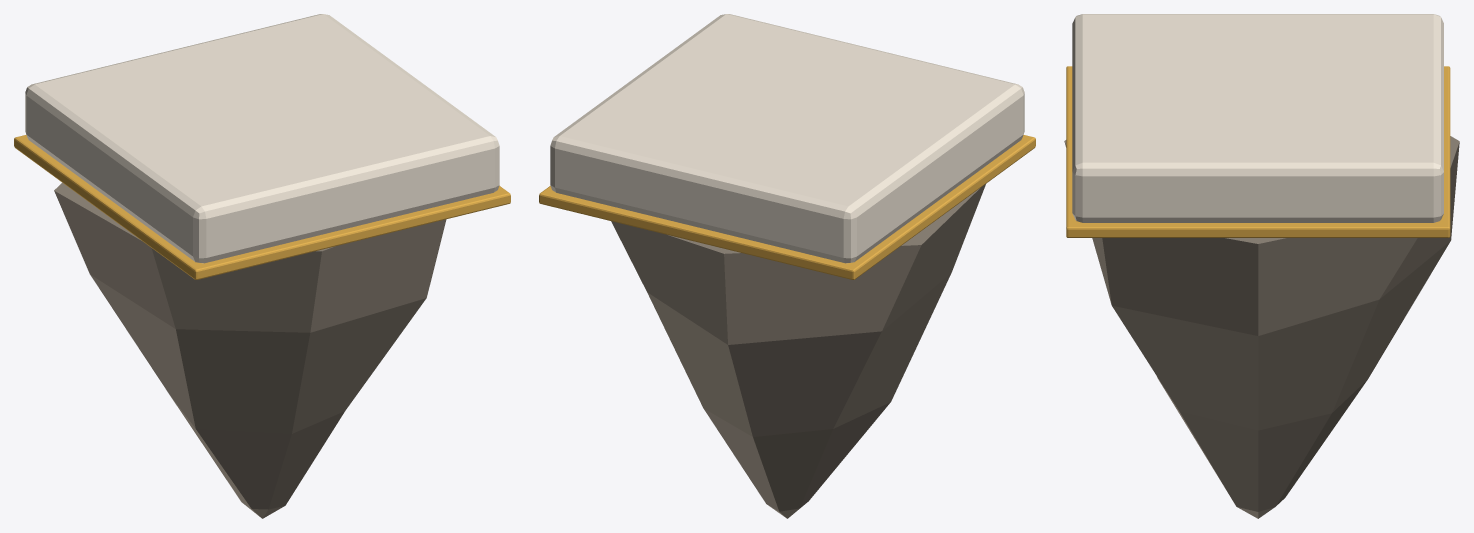
The model's file is plinth.glb.
3 views of the same model, side by side, from view 1: azimuth 30°, elevation 25°; view 2: azimuth 150°, elevation 25°; view 3: azimuth 270°, elevation 25° (orthographic). The views are drawn at different scales.
Visible parts, largest first — view 1: slab, rock, lip; view 2: slab, rock, lip; view 3: slab, rock, lip.
Part boxes in pixels (box(x1,y1,x2,y2)): slab: box(25, 14, 499, 263); rock: box(54, 182, 446, 518); lip: box(14, 135, 510, 279); slab: box(550, 14, 1024, 263); rock: box(611, 184, 985, 518); lip: box(539, 135, 1035, 279); slab: box(1072, 14, 1443, 222); rock: box(1064, 136, 1459, 518); lip: box(1066, 66, 1450, 237).
Bounding box in the file's own units: 2 × 2.3 × 1.92.
